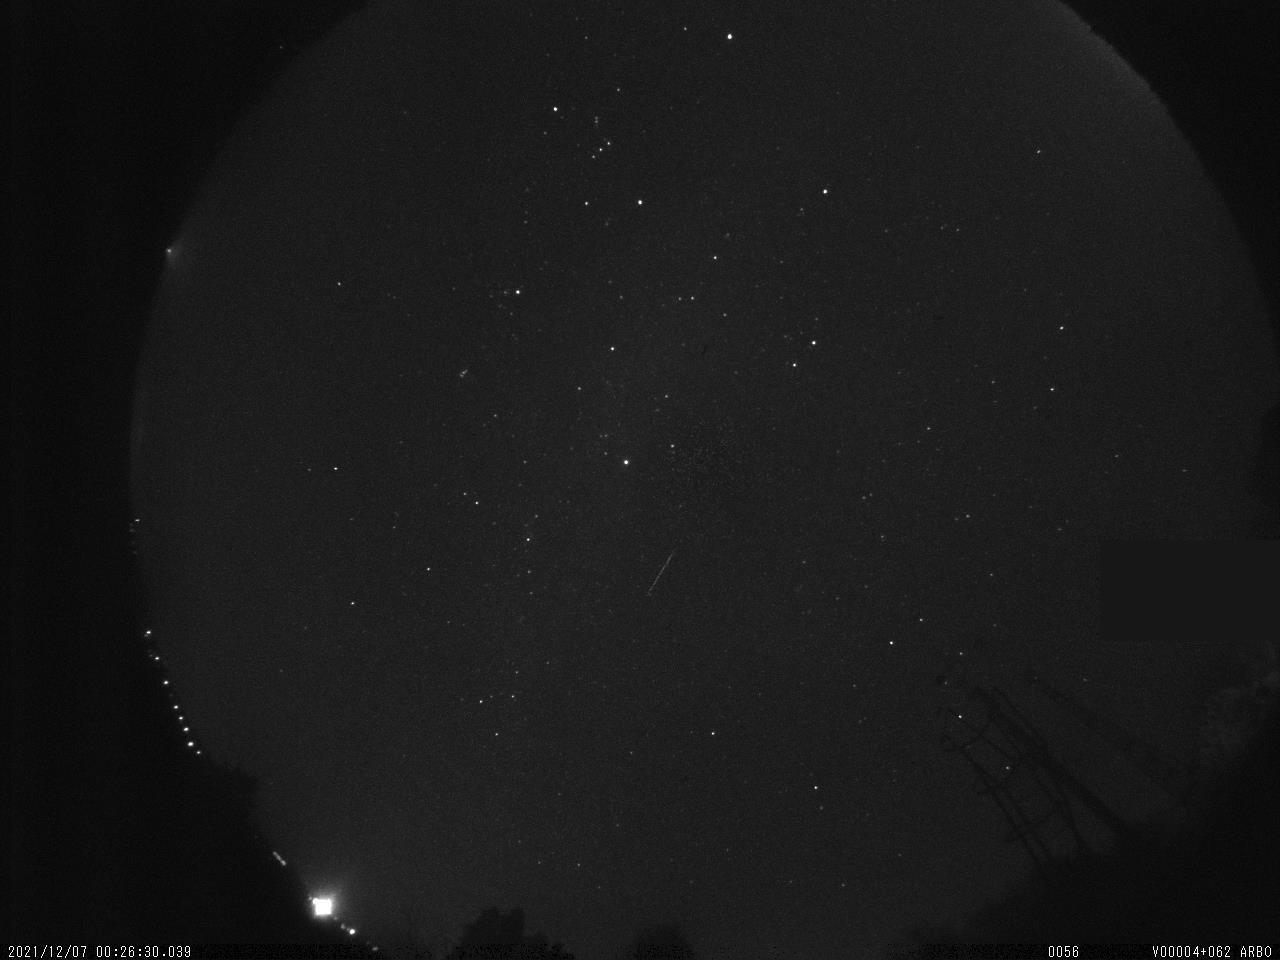meteor: (633, 544, 690, 598)
